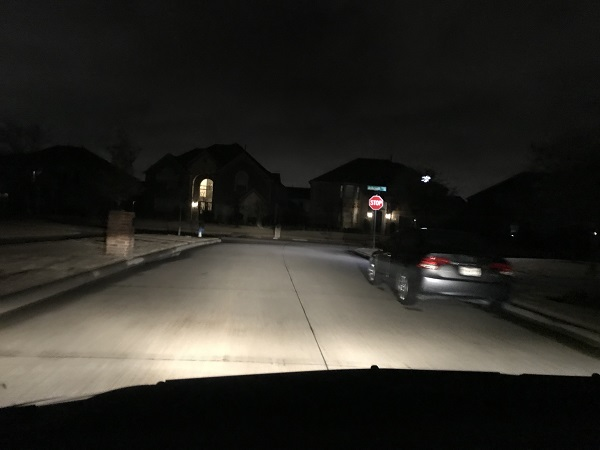car: (365, 220, 517, 312)
stop sign: (364, 194, 385, 212)
